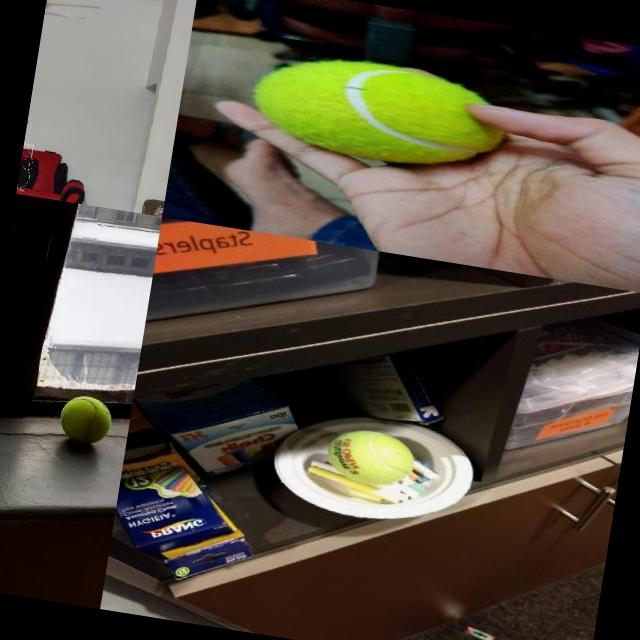Tennis Ball: (248, 46, 512, 178), (324, 424, 418, 491), (57, 392, 116, 448)
